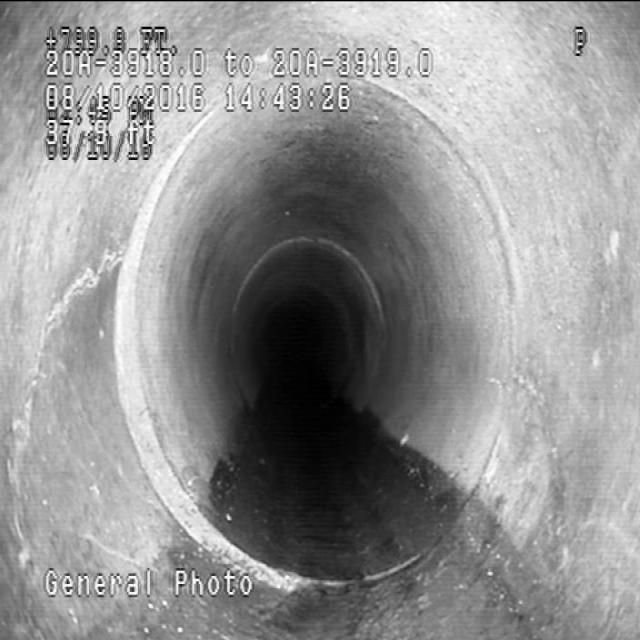Crack: (20, 232, 116, 534)
